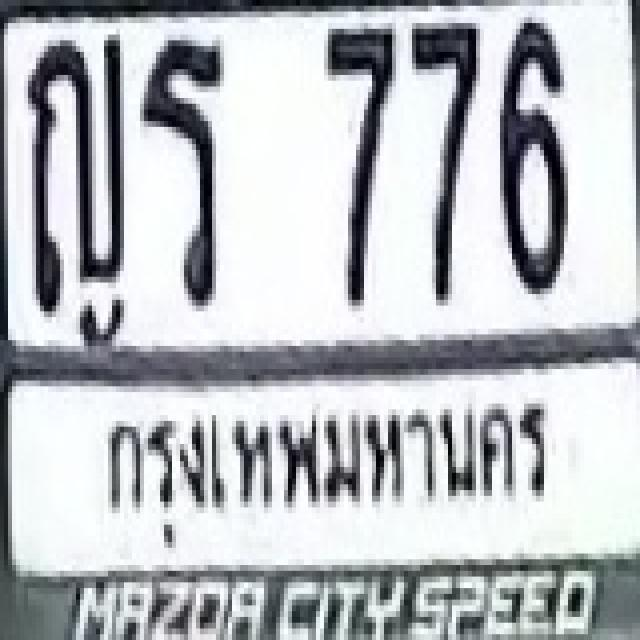-: (24, 34, 124, 306), (140, 34, 224, 300)
6: (496, 18, 564, 288)
7: (324, 23, 396, 300), (410, 17, 478, 300), (410, 20, 478, 211)
BKK: (76, 380, 564, 550)
